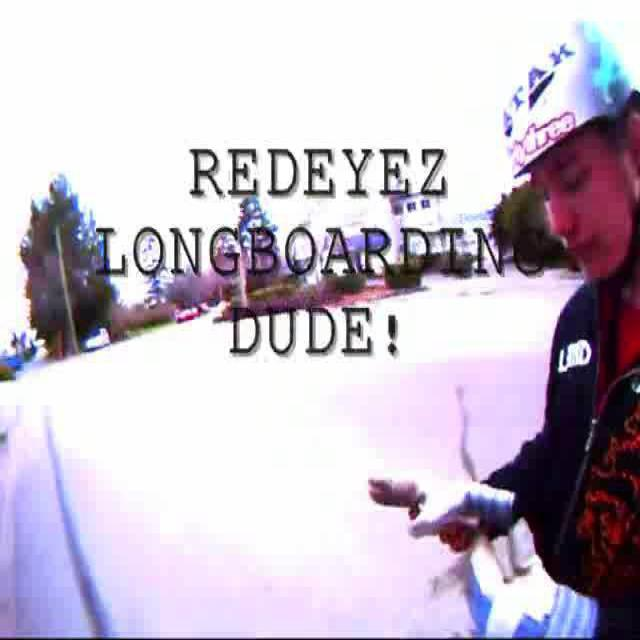other: (64, 385, 379, 571)
